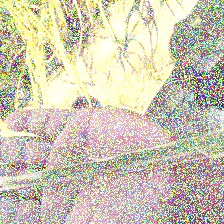Leaf_Blast: (3, 129, 218, 196)
